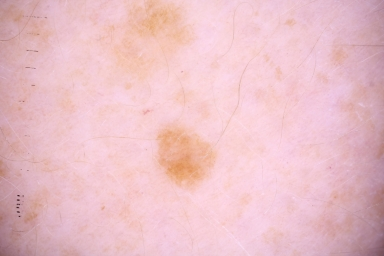melanoma: (155, 128, 216, 185)
